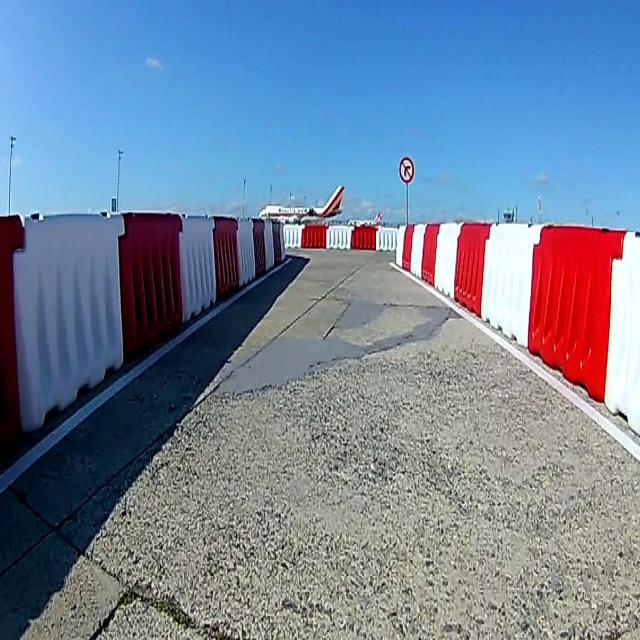sagadonulmez: (398, 154, 416, 186)
